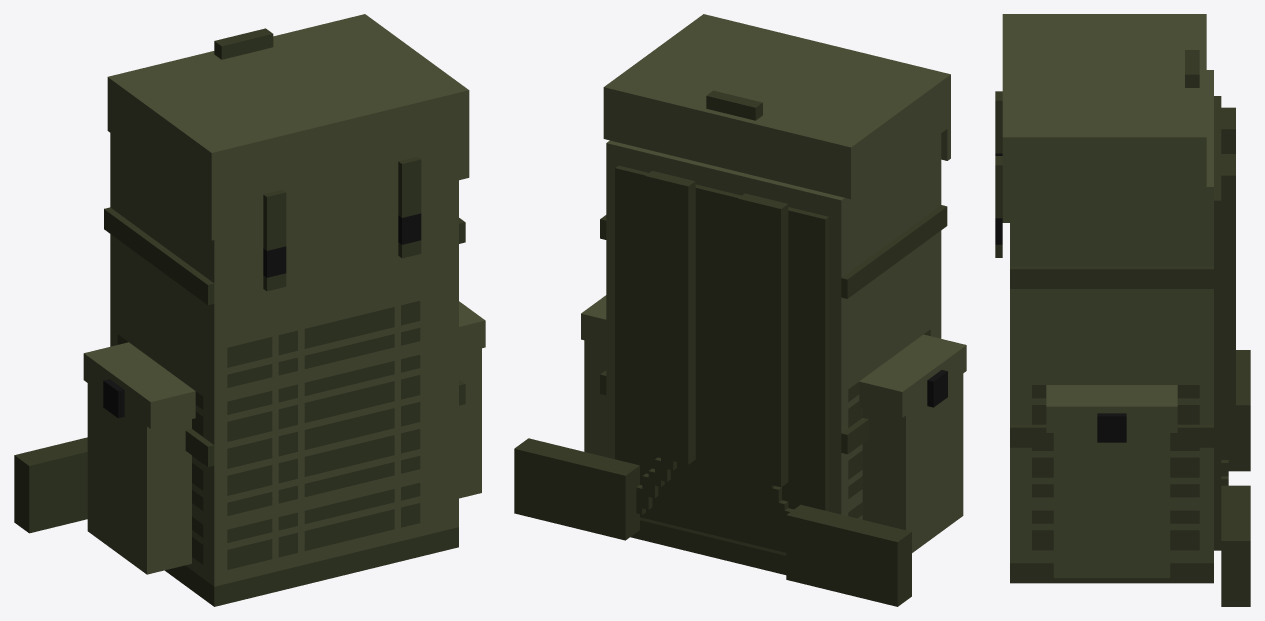
Rendered from molle_large_rucksack.glb.
The picture shows the model from 3 angles, left to right: view 1: azimuth 30°, elevation 25°; view 2: azimuth 150°, elevation 25°; view 3: azimuth 270°, elevation 25°; orthographic projection. The views are drawn at different scales.
Parts seen in each view (by area): view 1: molle_large_rucksack:compound; view 2: molle_large_rucksack:compound; view 3: molle_large_rucksack:compound.
Part boxes in pixels (bbox=[...]): molle_large_rucksack:compound: bbox=[14, 14, 485, 606]; molle_large_rucksack:compound: bbox=[514, 14, 966, 606]; molle_large_rucksack:compound: bbox=[995, 14, 1250, 606].
Size of the model in its own units: 0.62 by 0.7 by 0.35.
